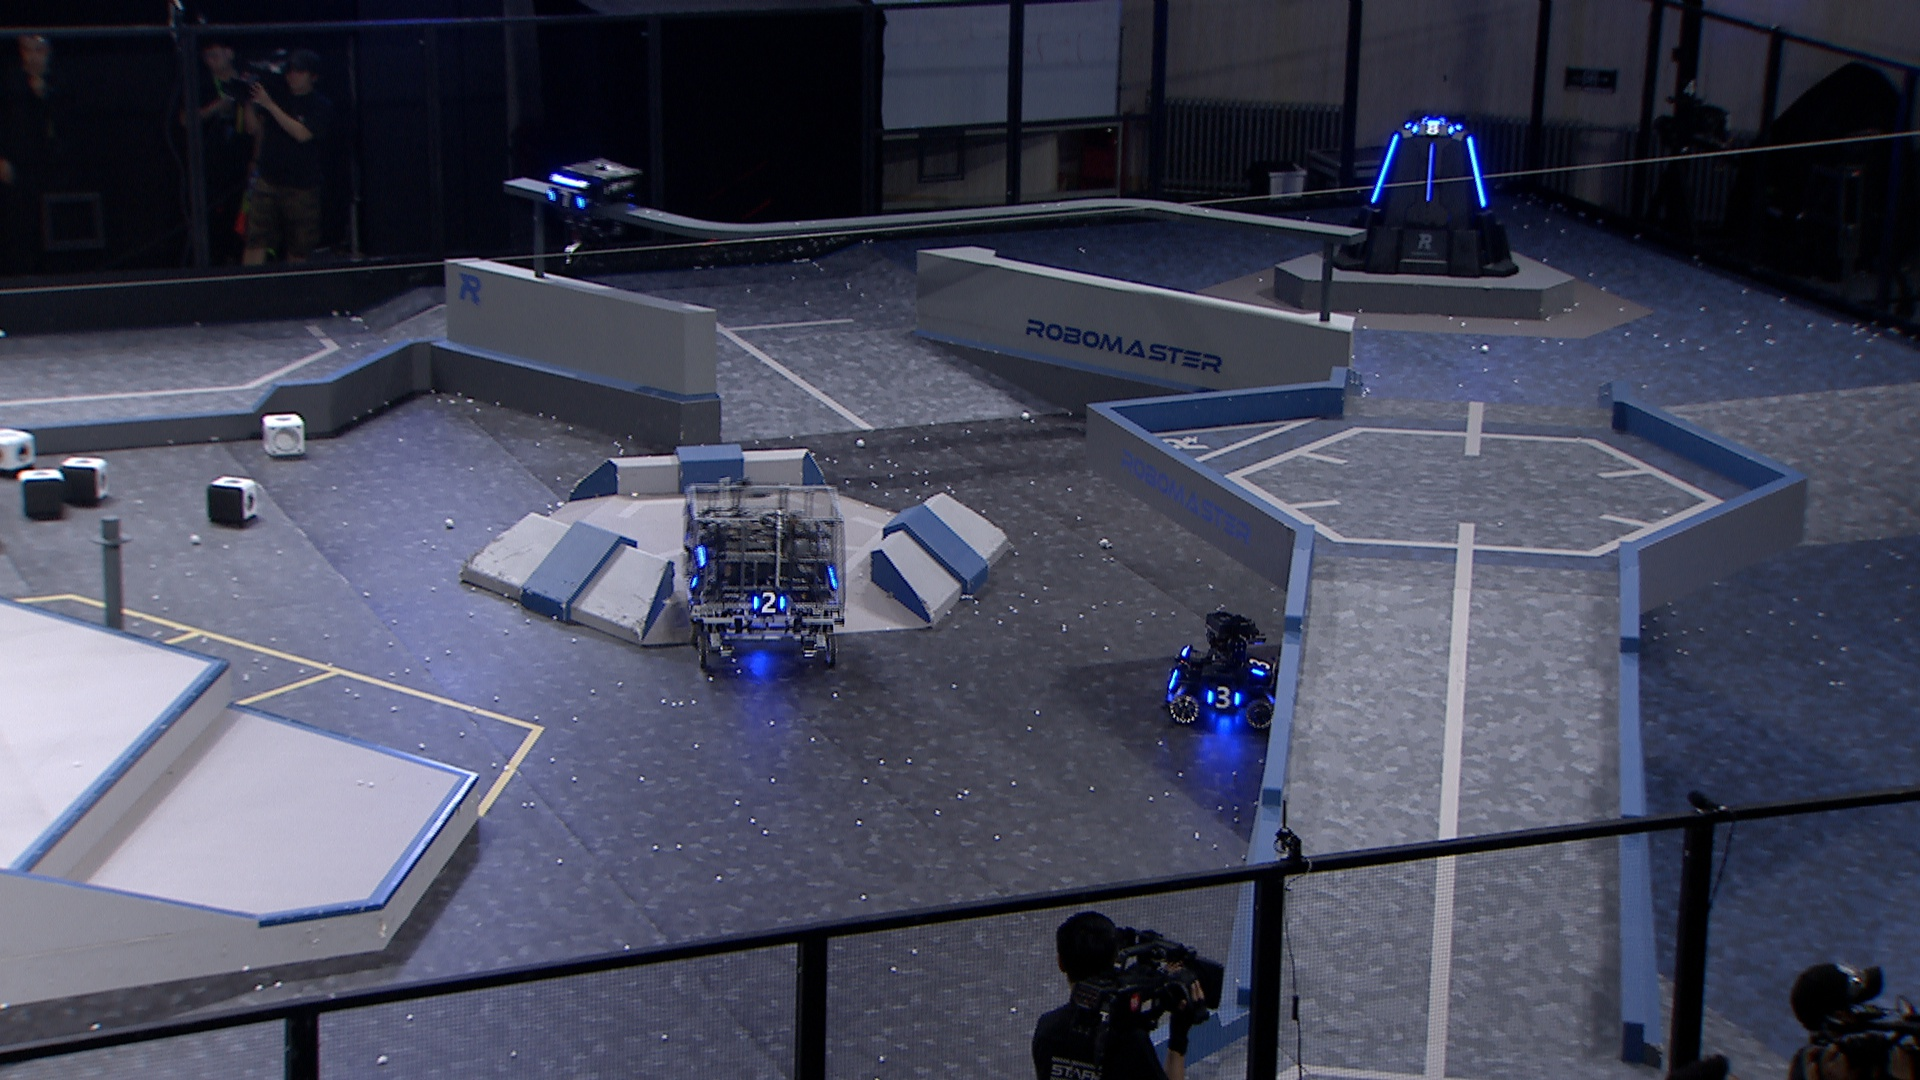armor: (1367, 131, 1400, 204), (1465, 135, 1490, 210), (752, 585, 789, 617), (542, 185, 585, 211), (1422, 138, 1437, 204), (1205, 684, 1244, 709), (1411, 120, 1455, 136), (1247, 654, 1273, 678)
base: (1327, 113, 1523, 281)
car: (676, 476, 849, 683), (1162, 609, 1288, 732)
watcher: (539, 152, 645, 255)
